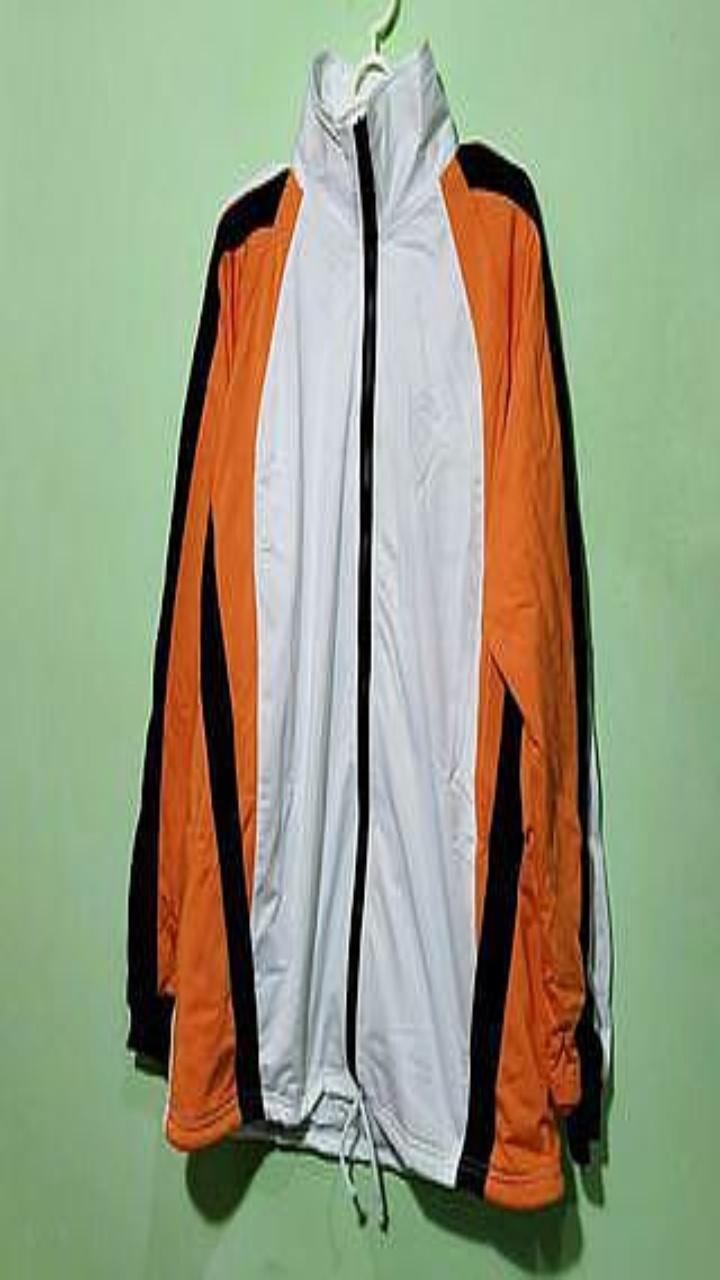Sports_Jacket: (126, 39, 611, 1222)
